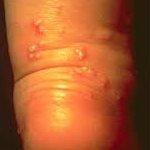Ants: (25, 39, 42, 62), (31, 19, 45, 39), (102, 74, 114, 95), (72, 45, 86, 61), (80, 65, 97, 78), (55, 24, 65, 38), (98, 34, 113, 43), (116, 94, 125, 107)
